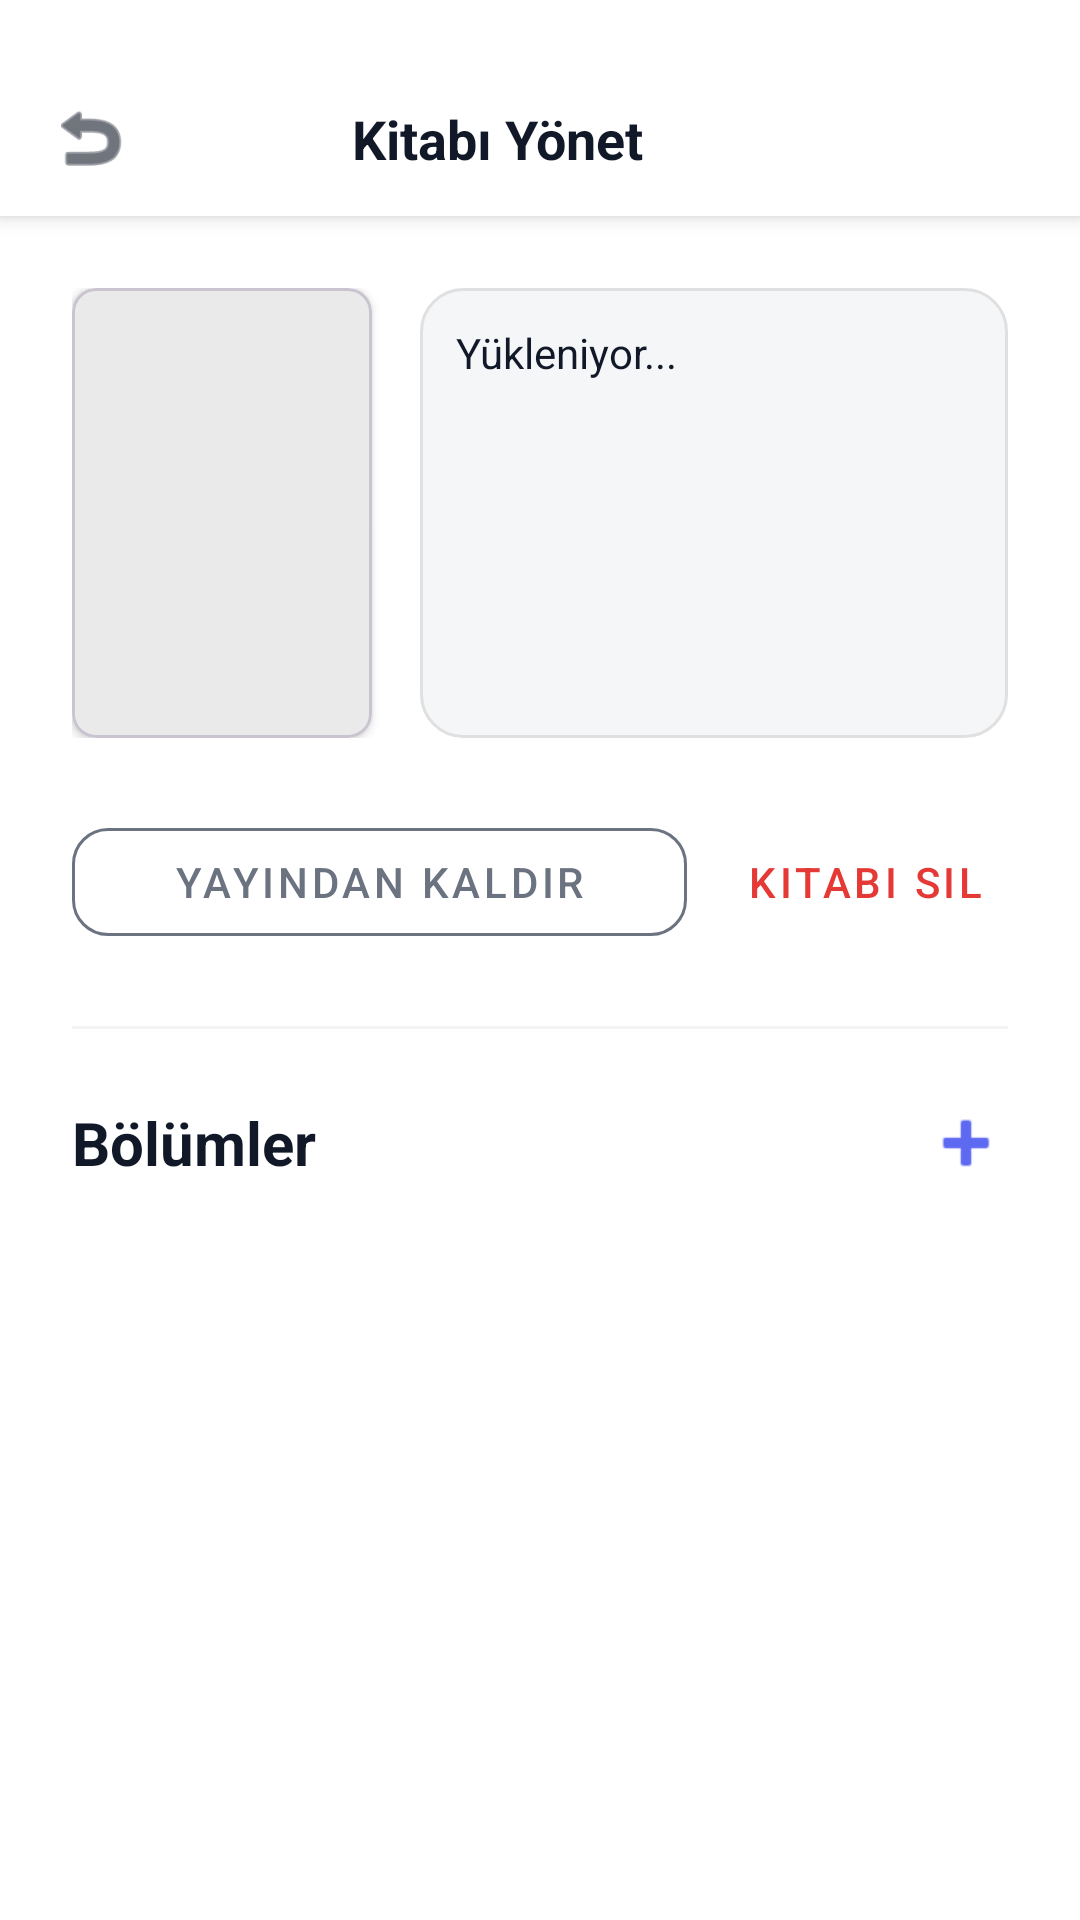

Where to tap for icons on this 1080*1920 app screen, as (x,y):
add: (966,1143)
revert: (91,138)
